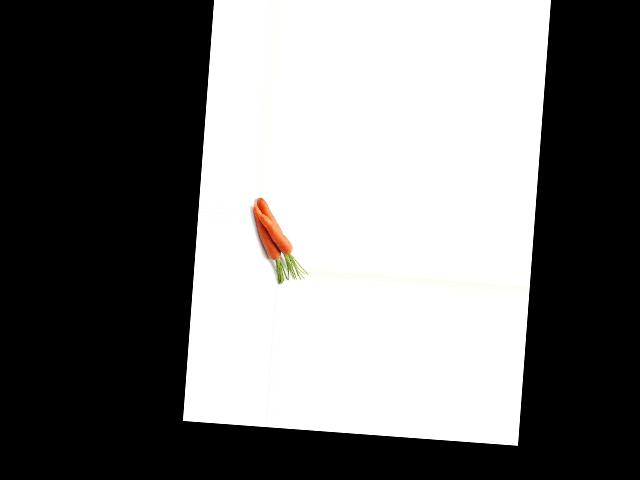carrot: (254, 197, 285, 235)
